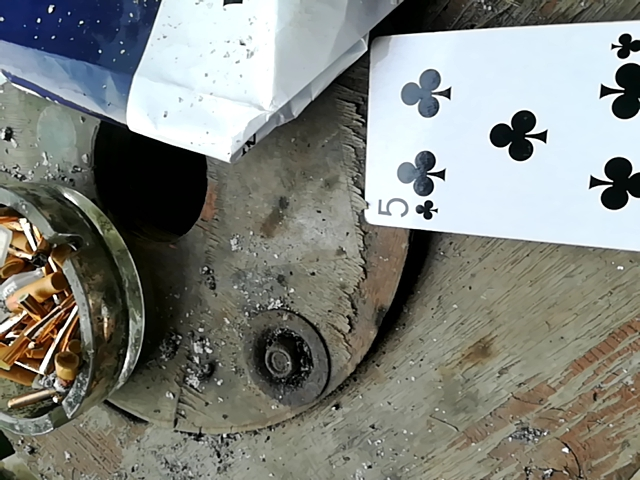mh 5: (363, 17, 640, 251)
